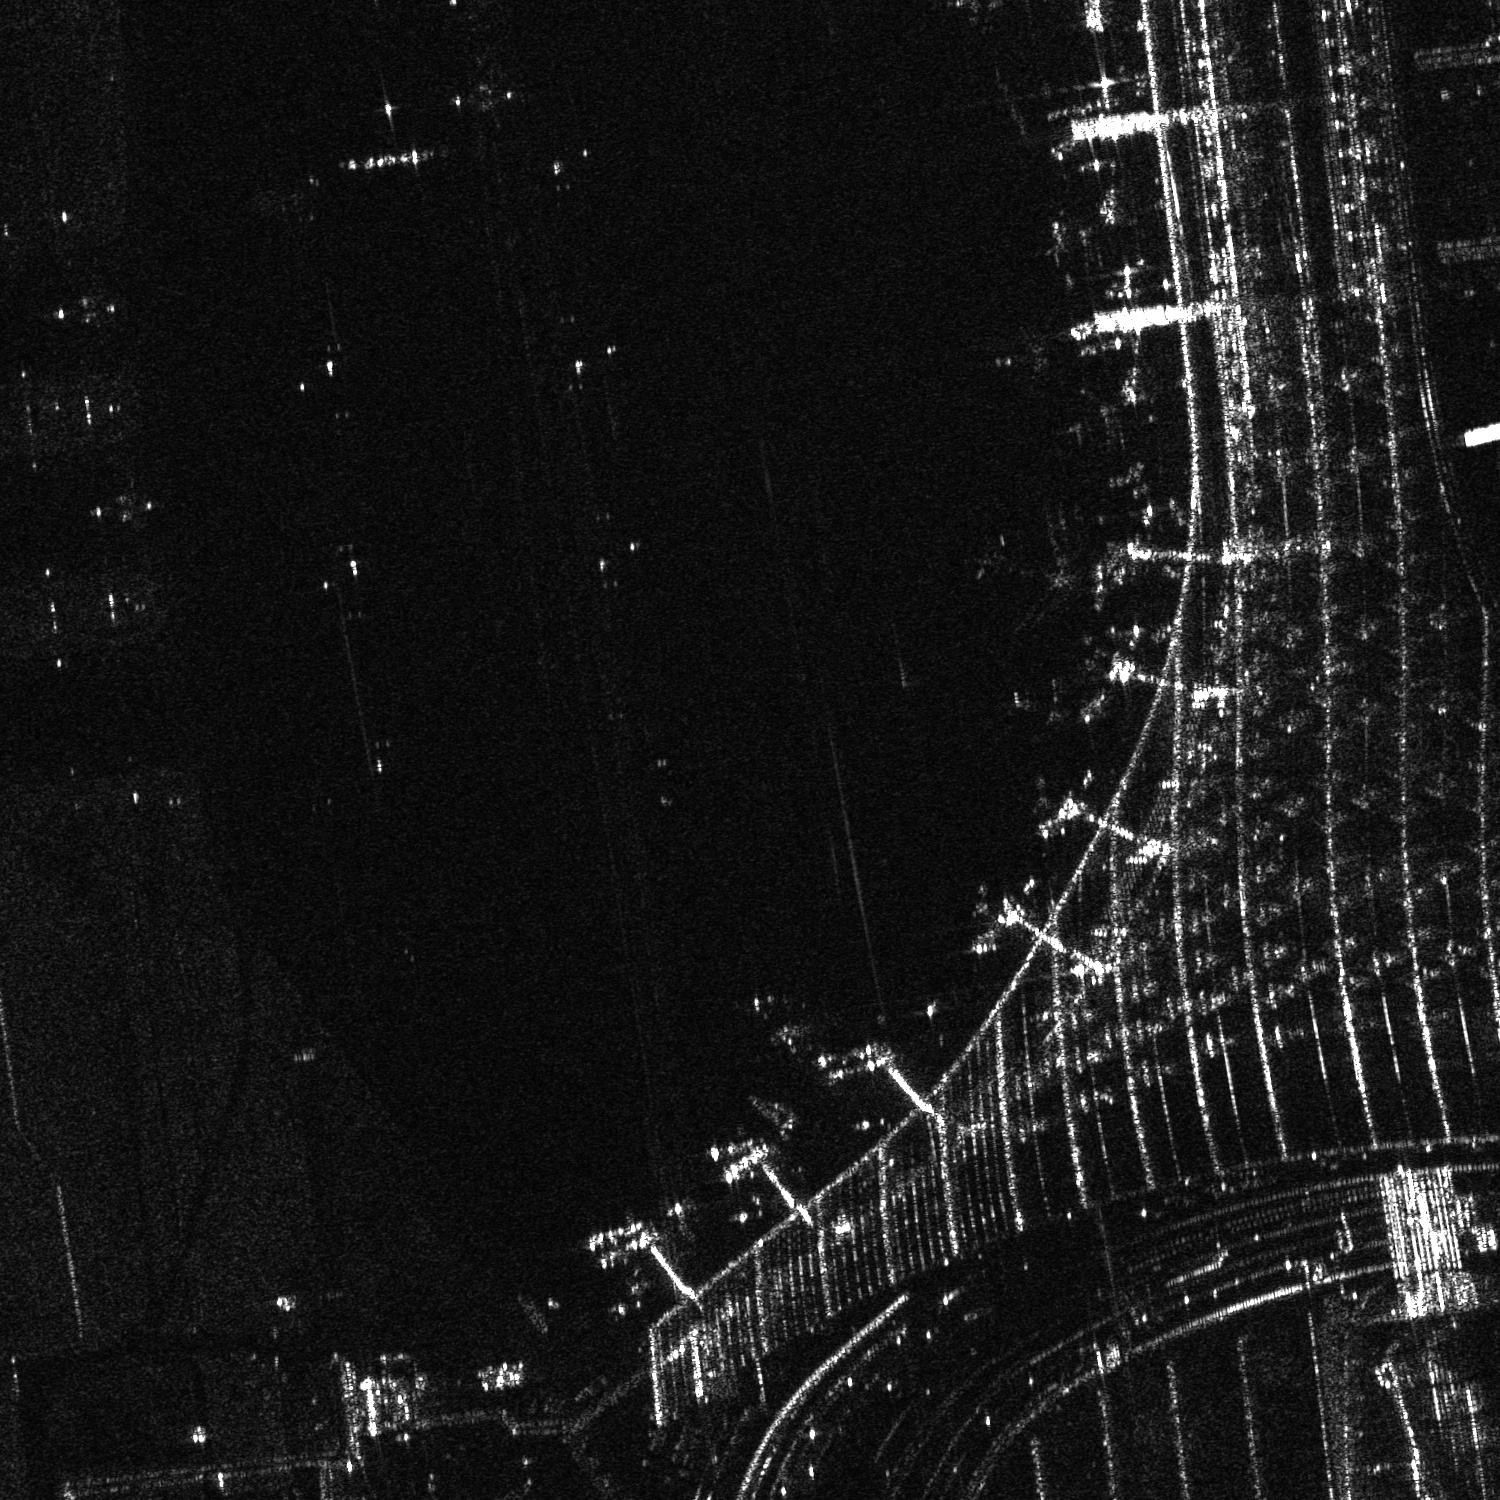A220: (1012, 676, 1077, 728)
Boeing787: (1065, 386, 1124, 451), (995, 323, 1056, 383)
other: (974, 505, 1089, 635)
